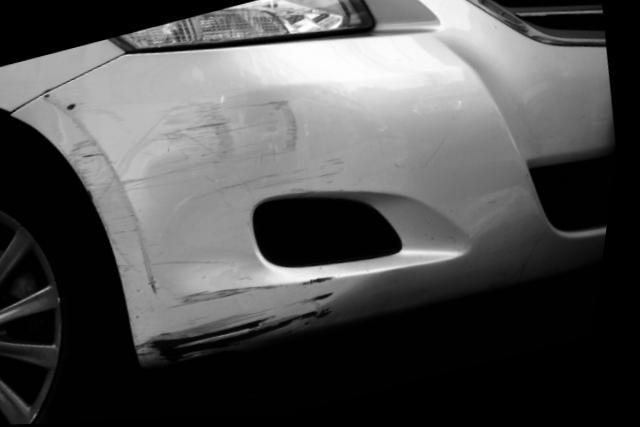scratch: (63, 84, 356, 368)
